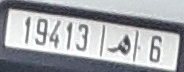1: (65, 21, 74, 51), (24, 16, 31, 44)
3: (75, 23, 90, 51)
4: (48, 20, 61, 48)
6: (149, 34, 163, 64)
9: (35, 19, 49, 46)
h: (107, 33, 131, 57)
